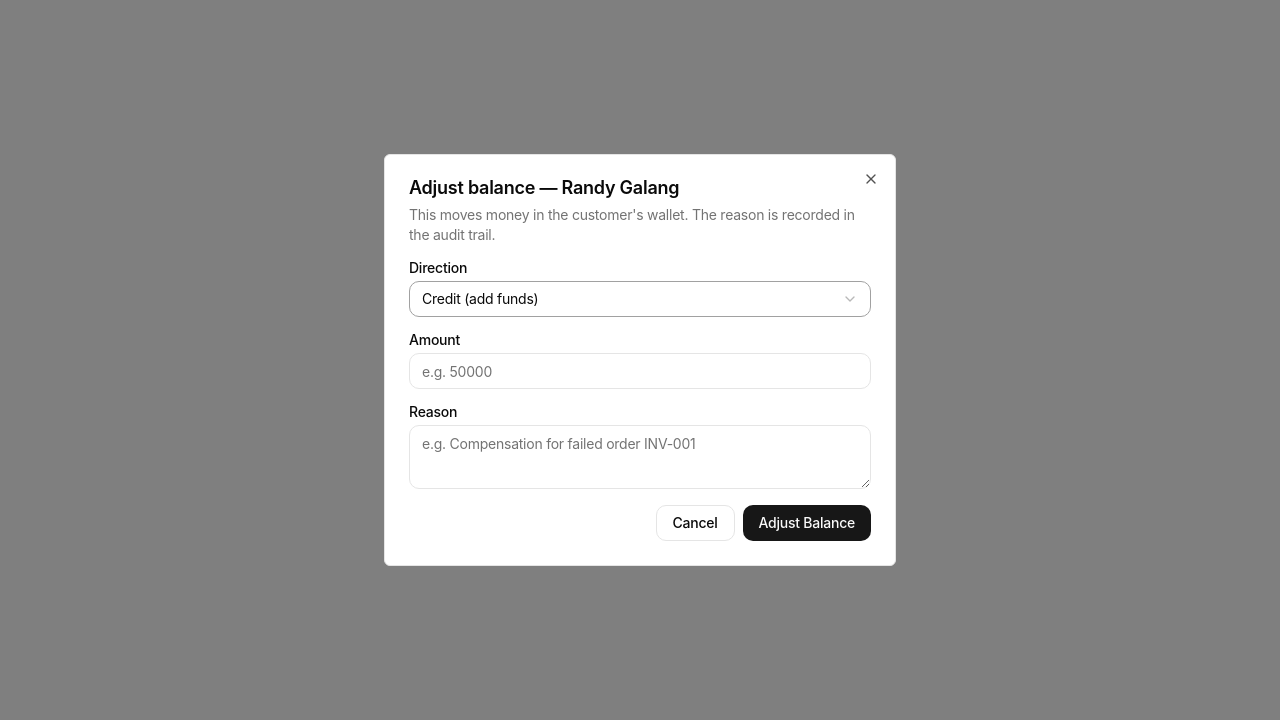
AdjustBalanceDialog › blocks submit when the reason is empty
The width and height of the screenshot is (1280, 720).
Type "50000" into the number field labelled "Amount". click: (640, 371)
box: [409,353,871,389]
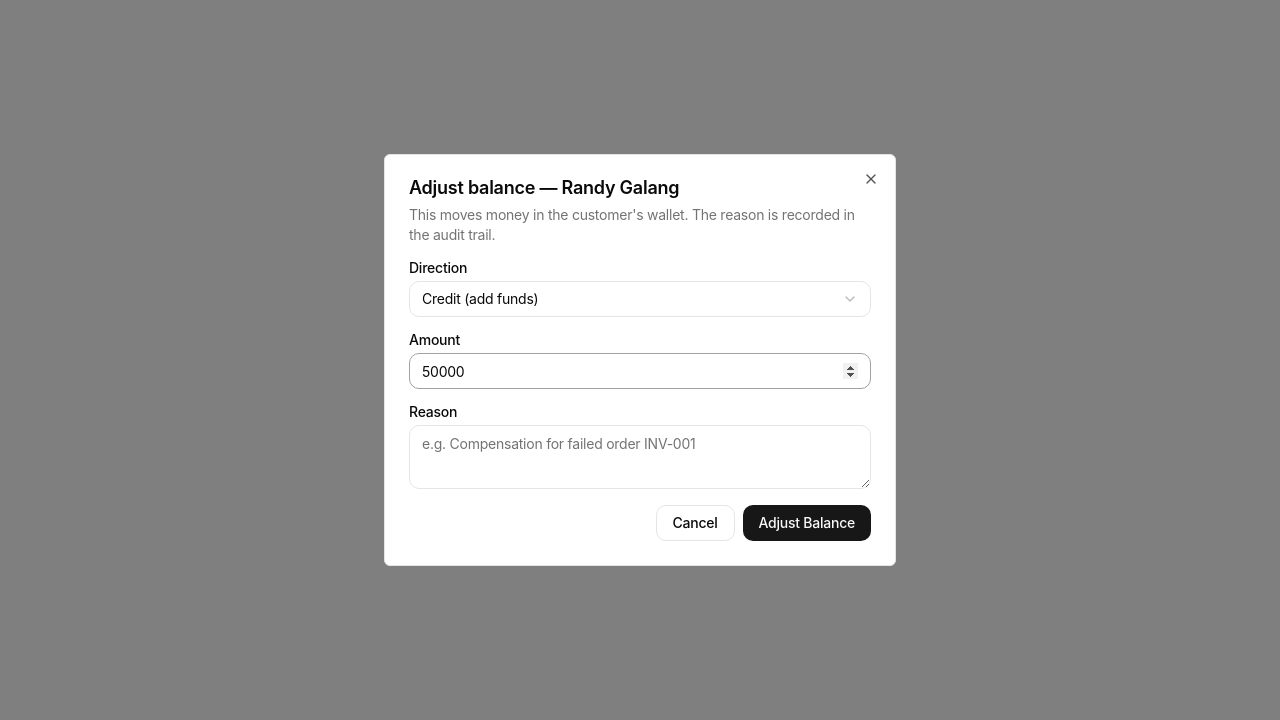
Click the button "Adjust Balance". click: (807, 523)
box: [742,505,871,541]
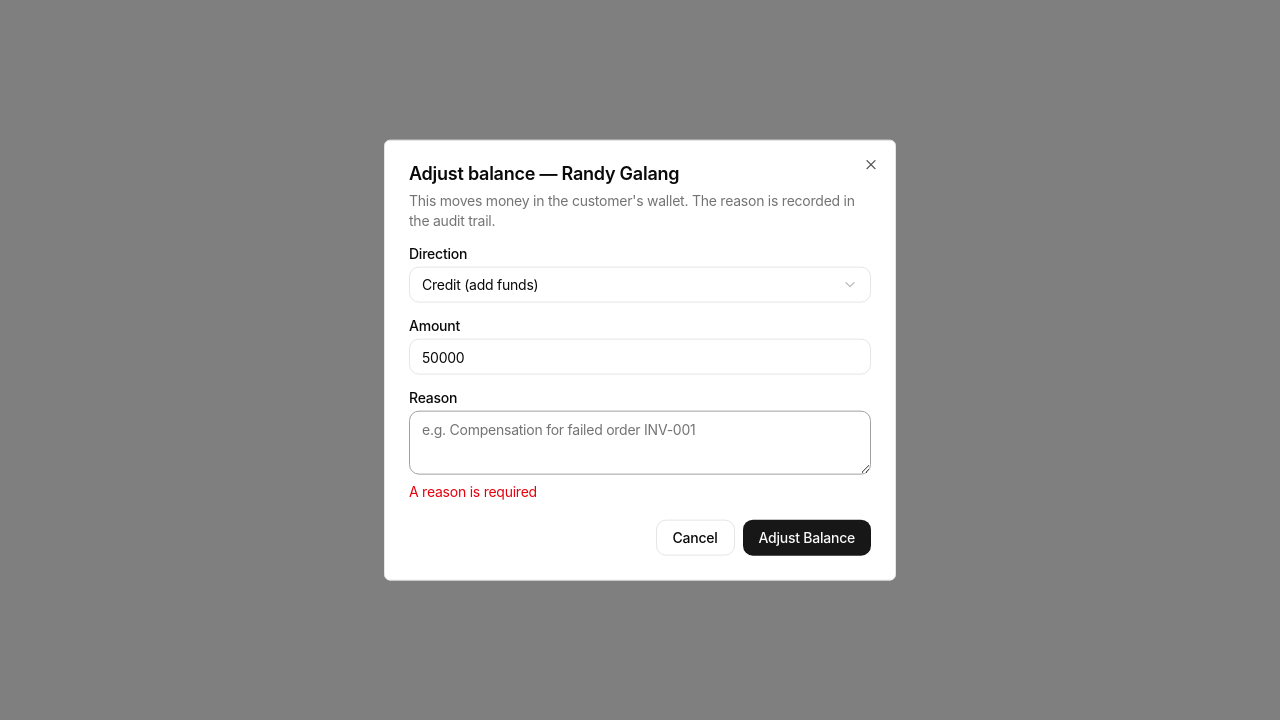
Expected: the text "A reason is required" is shown, [409,483,537,500]
